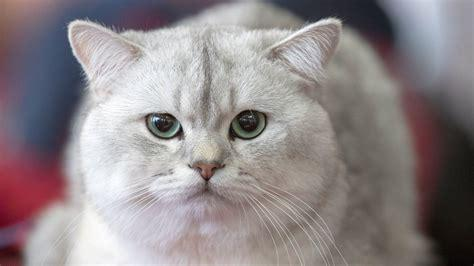cat: (67, 1, 421, 266)
